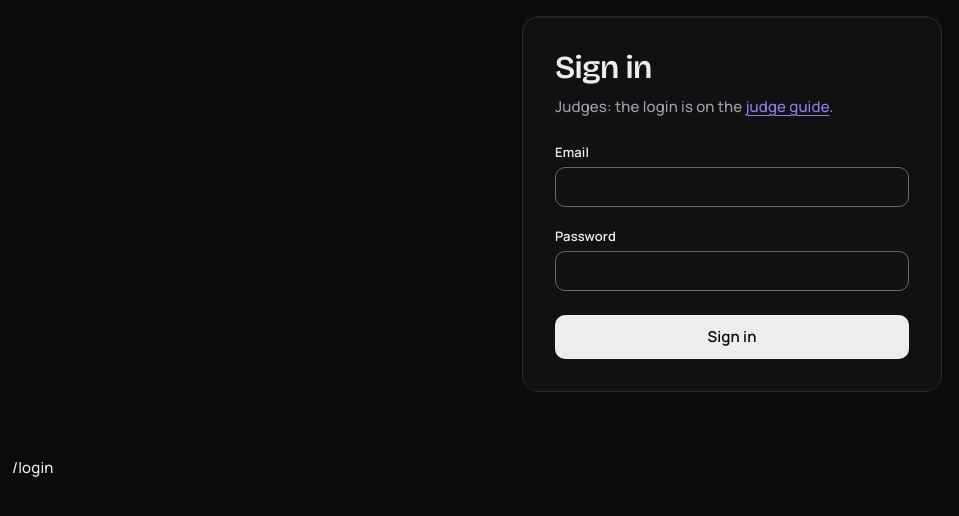
Test: Login › says sign-in is not set up on 503
Type "judge@example.com" into the field labelled "Email" at x=732, y=187, box [555,167,909,207]
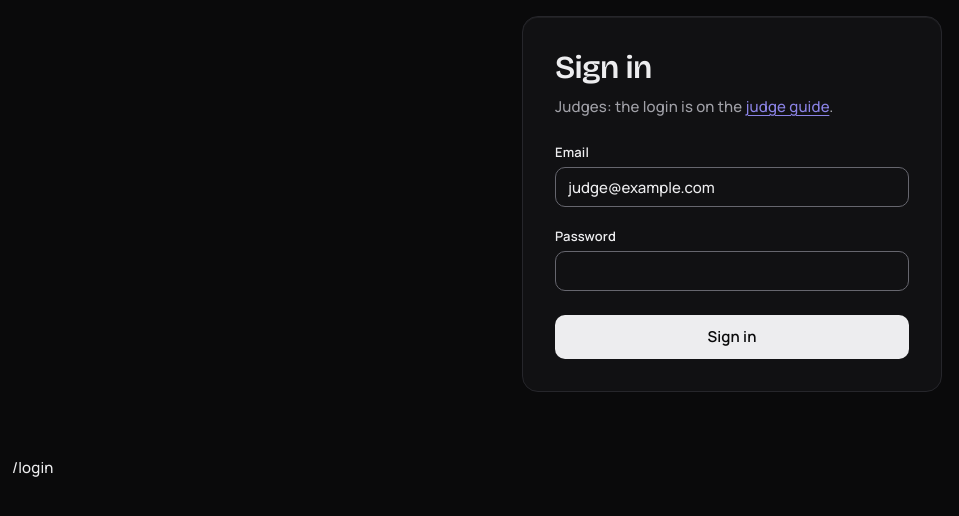
Type "pw" into the password field labelled "Password" at x=732, y=271, box [555,251,909,291]
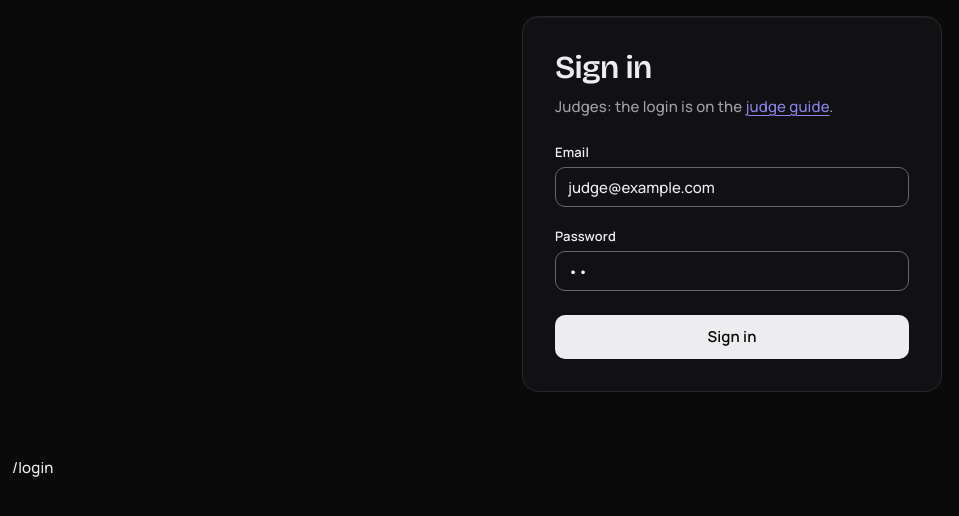
Click the button "Sign in" at x=732, y=337, box [555,315,909,359]
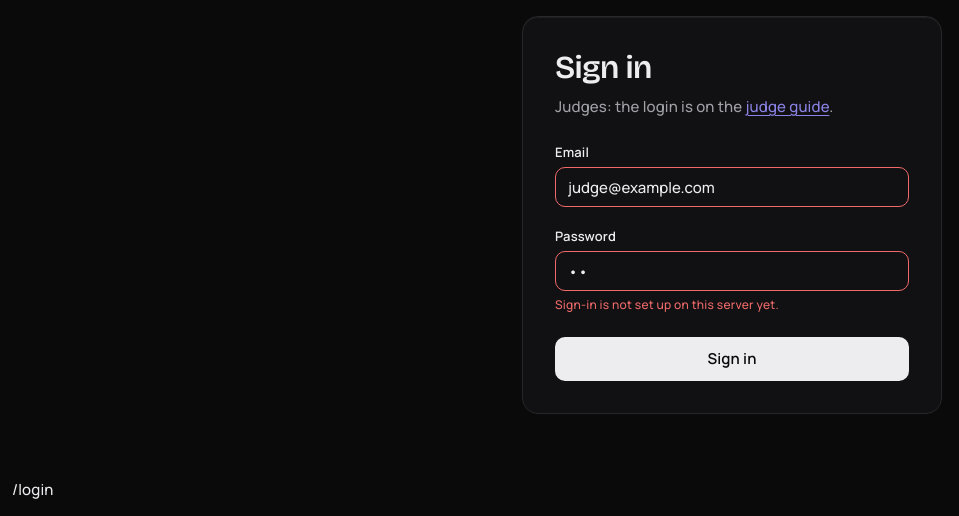
Now the message shows "not set up on this server", box [555,296,779,313]
